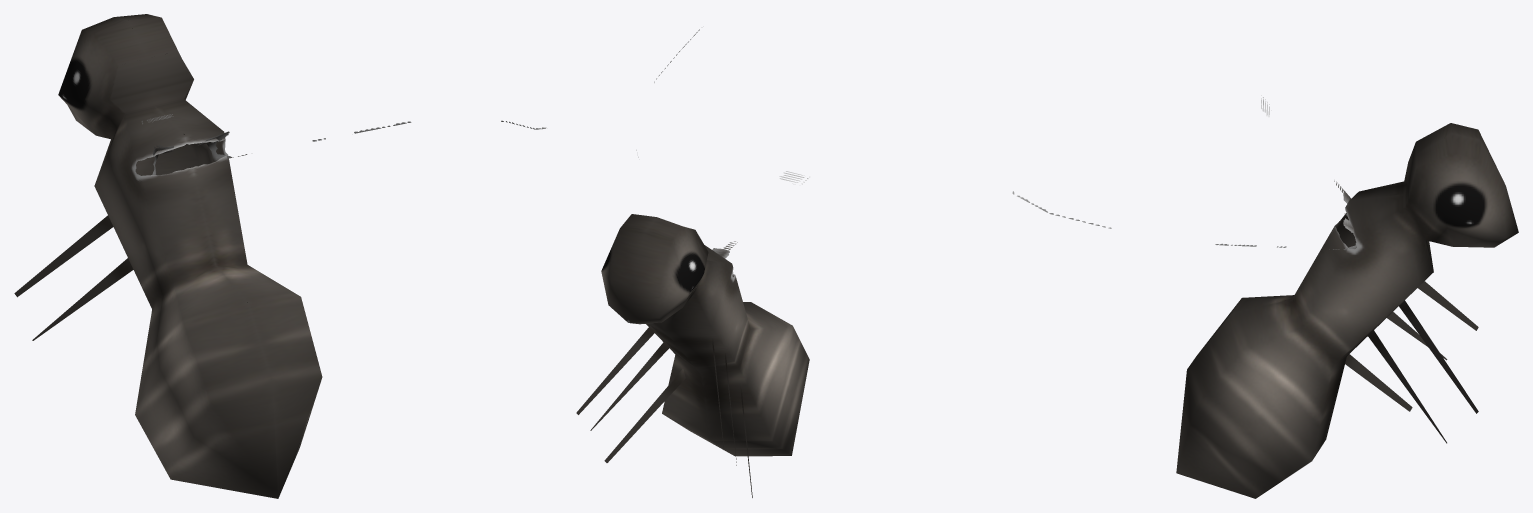
File: BUG2.fbx
3 views of the same model, side by side, from view 1: azimuth 30°, elevation 25°; view 2: azimuth 150°, elevation 25°; view 3: azimuth 270°, elevation 25° (orthographic). The views are drawn at different scales.
Parts seen in each view (by area): view 1: Cube_001; view 2: Cube_001; view 3: Cube_001.
Part boxes in pixels (x1,y1,x2,y2): Cube_001: (14, 14, 546, 498); Cube_001: (576, 29, 809, 497); Cube_001: (1012, 95, 1518, 498).
Size of the model in its own units: 2.4 by 2.73 by 3.07.
Materials: 1 (1 with a texture image).
